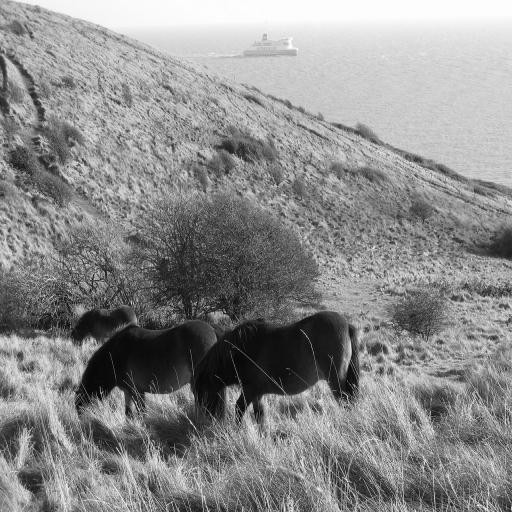Horse: (188, 305, 360, 428), (74, 320, 225, 417), (68, 305, 140, 345)
